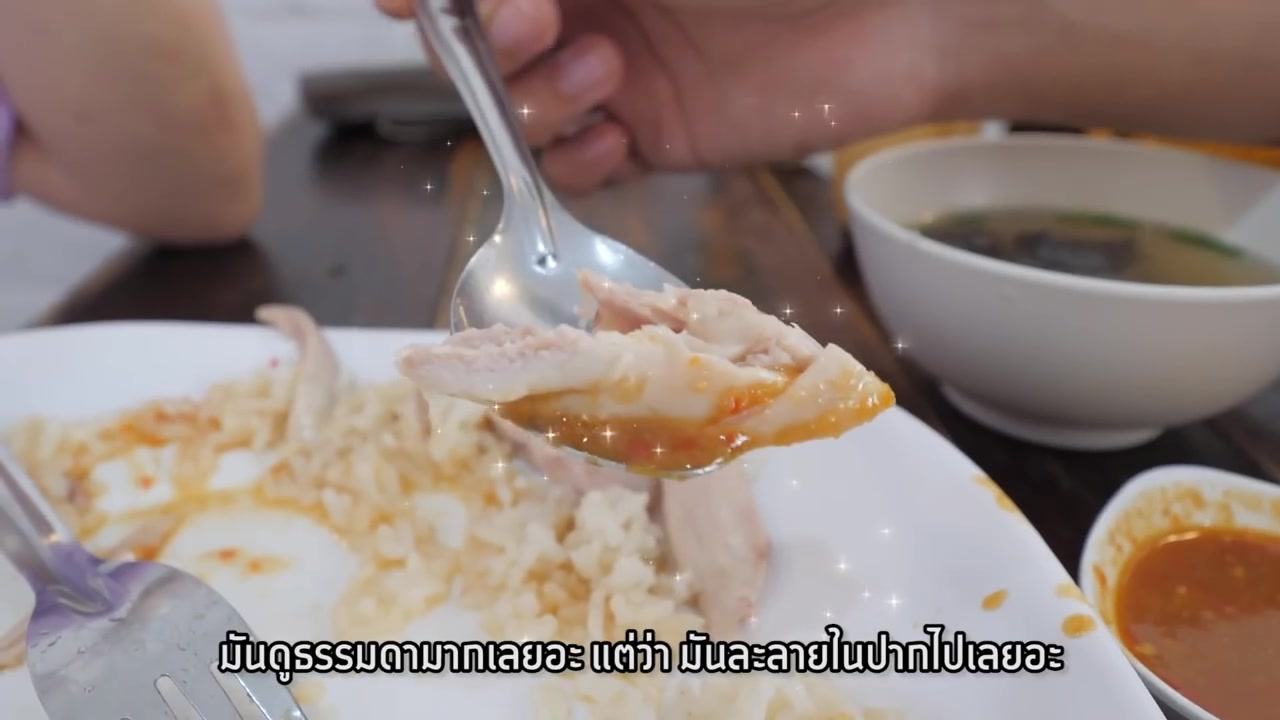text-label: (214, 621, 1066, 688)
